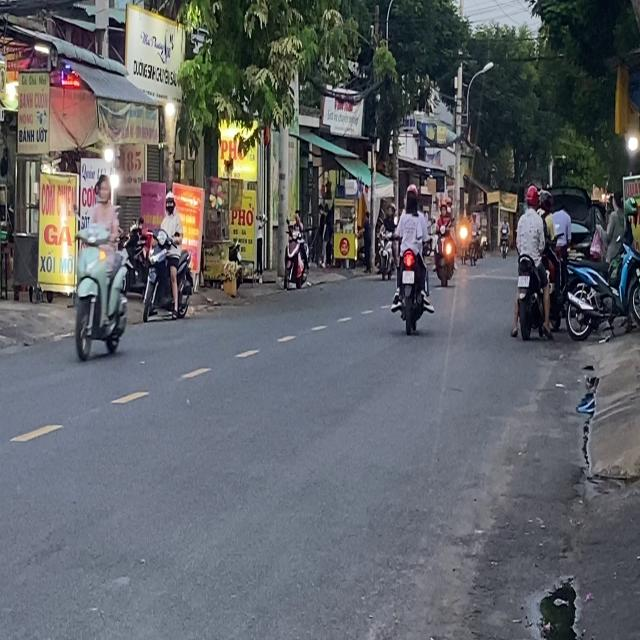helmet: (95, 170, 112, 203), (524, 184, 538, 208), (163, 192, 176, 215)
licenseplate: (70, 168, 130, 361), (142, 190, 194, 322), (511, 183, 551, 341), (391, 182, 432, 333)
motorcyclist: (404, 189, 418, 213)
nohelmet: (402, 270, 414, 284), (518, 275, 529, 287)
